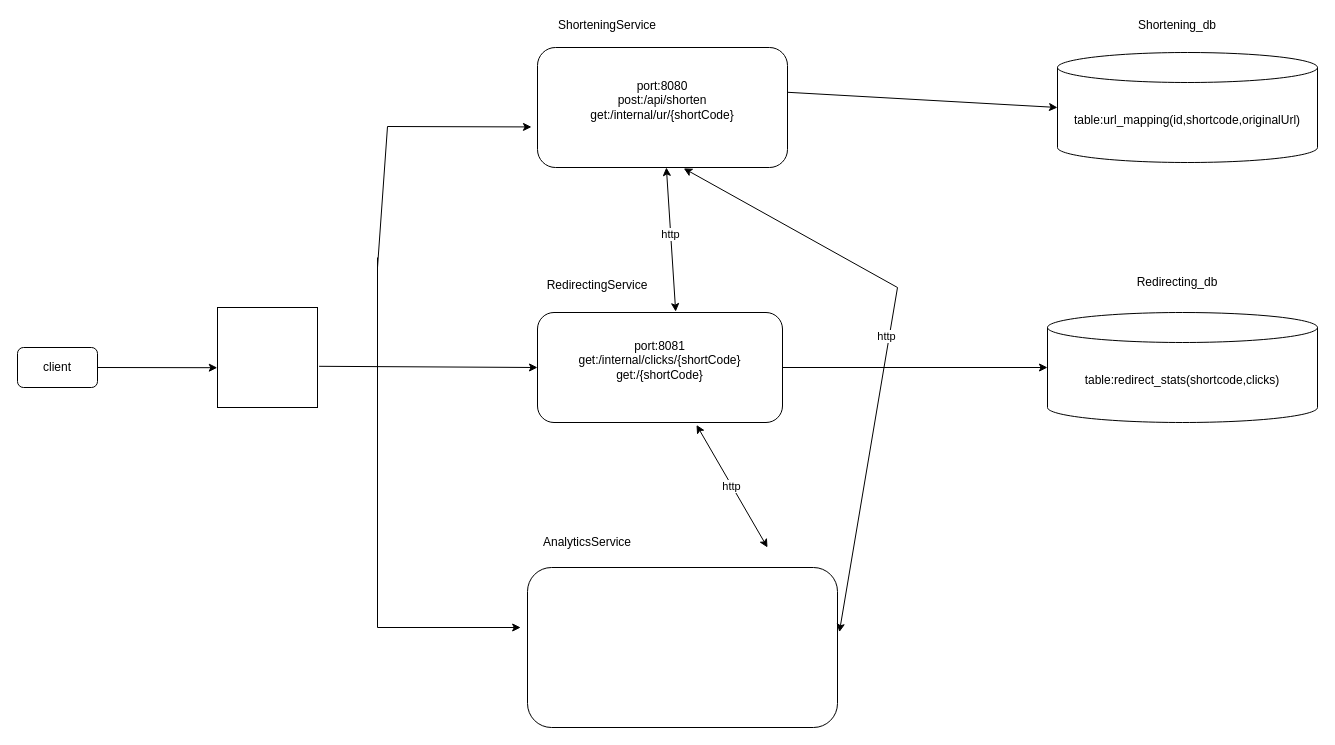
Image size: 1335x745. Some labels were removed from this diagram. The shapes that lost their labels are listed below. From the top down, each one's box as (x1, y1, x2, y2) in pixels, then its label:
(216, 306, 318, 408): gateWay port:8085
(526, 566, 838, 728): port:8082 get:/api/analytics/{shotrtCode}
